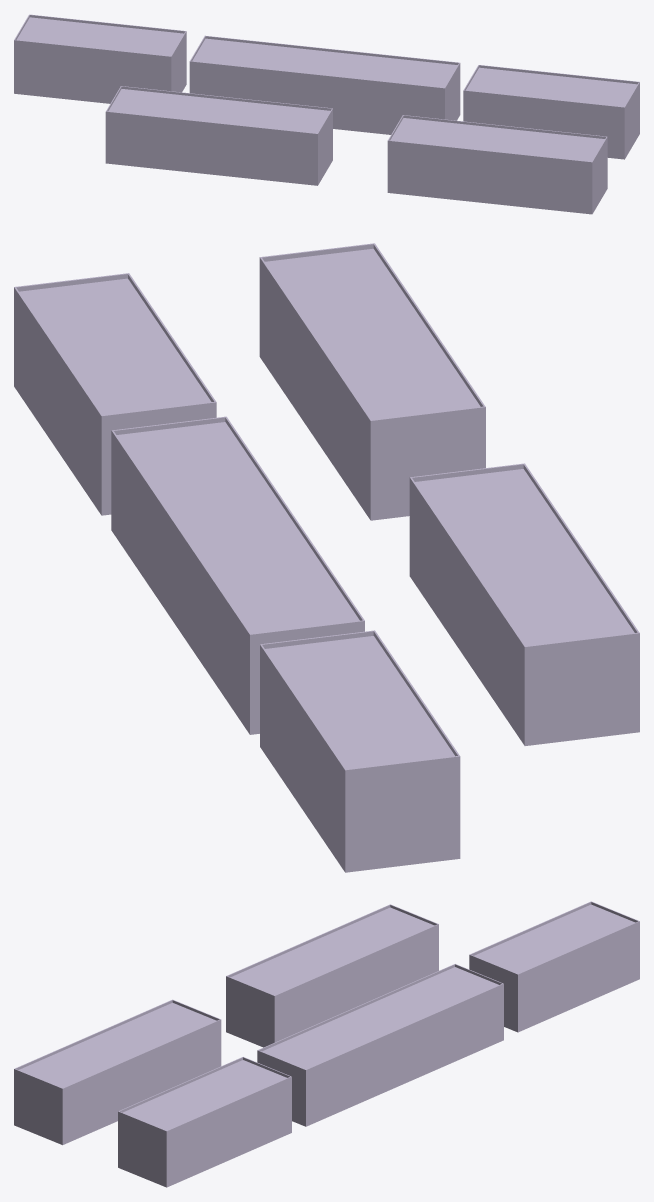
Rendered from aura-additional-plan-envelopes.glb.
The picture shows the model from 3 angles, top to bottom: view 1: azimuth 30°, elevation 25°; view 2: azimuth 150°, elevation 25°; view 3: azimuth 270°, elevation 25°; orthographic projection. The views are drawn at different scales.
Parts seen in each view (by area): view 1: aura-additional-context-west-north-envelope, aura-additional-context-west-south-envelope, aura-additional-block8-middle-envelope, aura-additional-block8-north-envelope, aura-additional-block8-south-envelope, aura-additional-block8-middle-roof-edge, aura-additional-context-west-north-roof-edge, aura-additional-context-west-south-roof-edge, aura-additional-block8-south-roof-edge, aura-additional-block8-north-roof-edge, aura-additional-context-west-south-foundation, aura-additional-block8-north-foundation (+1 smaller); view 2: aura-additional-context-west-north-envelope, aura-additional-block8-middle-envelope, aura-additional-context-west-south-envelope, aura-additional-block8-north-envelope, aura-additional-block8-south-envelope, aura-additional-block8-middle-roof-edge, aura-additional-context-west-north-roof-edge, aura-additional-context-west-south-roof-edge, aura-additional-block8-south-roof-edge, aura-additional-block8-north-roof-edge, aura-additional-block8-north-foundation; view 3: aura-additional-block8-middle-envelope, aura-additional-context-west-south-envelope, aura-additional-context-west-north-envelope, aura-additional-block8-south-envelope, aura-additional-block8-north-envelope, aura-additional-block8-middle-roof-edge, aura-additional-context-west-north-roof-edge, aura-additional-context-west-south-roof-edge, aura-additional-block8-south-roof-edge, aura-additional-block8-north-roof-edge, aura-additional-block8-north-foundation, aura-additional-block8-middle-foundation.
Part boxes in pixels (x1,y1,x2,y2): aura-additional-context-west-north-envelope: (105, 89, 332, 184); aura-additional-context-west-south-envelope: (387, 118, 607, 213); aura-additional-block8-middle-envelope: (189, 38, 460, 133); aura-additional-block8-north-envelope: (14, 17, 186, 101); aura-additional-block8-south-envelope: (463, 67, 639, 158); aura-additional-block8-middle-roof-edge: (189, 35, 460, 90); aura-additional-context-west-north-roof-edge: (105, 86, 332, 136); aura-additional-context-west-south-roof-edge: (387, 115, 607, 164); aura-additional-block8-south-roof-edge: (463, 65, 639, 109); aura-additional-block8-north-roof-edge: (14, 14, 186, 58); aura-additional-context-west-south-foundation: (387, 188, 607, 214); aura-additional-block8-north-foundation: (14, 82, 186, 103); aura-additional-context-west-north-envelope: (409, 469, 639, 744); aura-additional-block8-middle-envelope: (111, 422, 364, 732); aura-additional-context-west-south-envelope: (259, 248, 485, 518); aura-additional-block8-north-envelope: (260, 636, 460, 867); aura-additional-block8-south-envelope: (14, 278, 216, 513); aura-additional-block8-middle-roof-edge: (111, 416, 364, 639); aura-additional-context-west-north-roof-edge: (409, 463, 639, 651); aura-additional-context-west-south-roof-edge: (259, 243, 485, 425); aura-additional-block8-south-roof-edge: (14, 273, 216, 420); aura-additional-block8-north-roof-edge: (260, 630, 460, 774); aura-additional-block8-north-foundation: (260, 742, 460, 872); aura-additional-block8-middle-envelope: (257, 967, 503, 1125); aura-additional-context-west-south-envelope: (14, 1002, 221, 1143); aura-additional-context-west-north-envelope: (226, 907, 438, 1046); aura-additional-block8-south-envelope: (118, 1060, 291, 1186); aura-additional-block8-north-envelope: (469, 904, 639, 1029); aura-additional-block8-middle-roof-edge: (257, 964, 503, 1072); aura-additional-context-west-north-roof-edge: (226, 904, 438, 998); aura-additional-context-west-south-roof-edge: (14, 999, 221, 1091); aura-additional-block8-south-roof-edge: (118, 1057, 291, 1133); aura-additional-block8-north-roof-edge: (469, 901, 639, 976); aura-additional-block8-north-foundation: (504, 976, 639, 1032); aura-additional-block8-middle-foundation: (292, 1039, 503, 1126).
Bounding box in the file's own units: 115 × 14.01 × 133.
